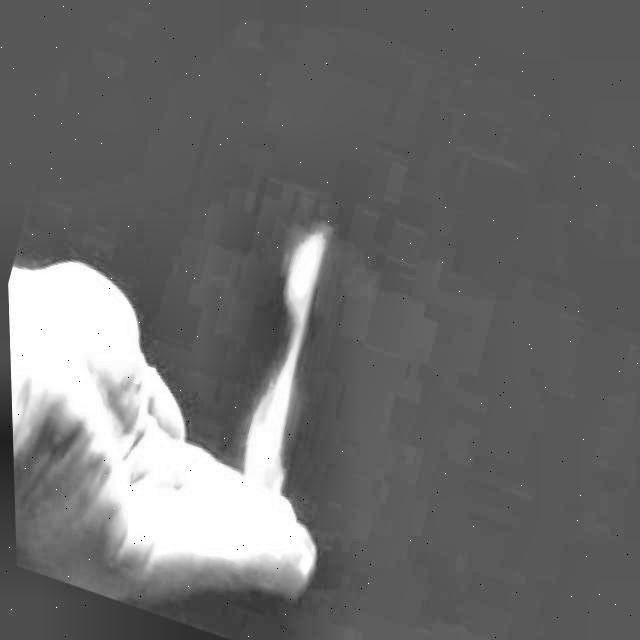Smoke: (209, 207, 355, 554)
